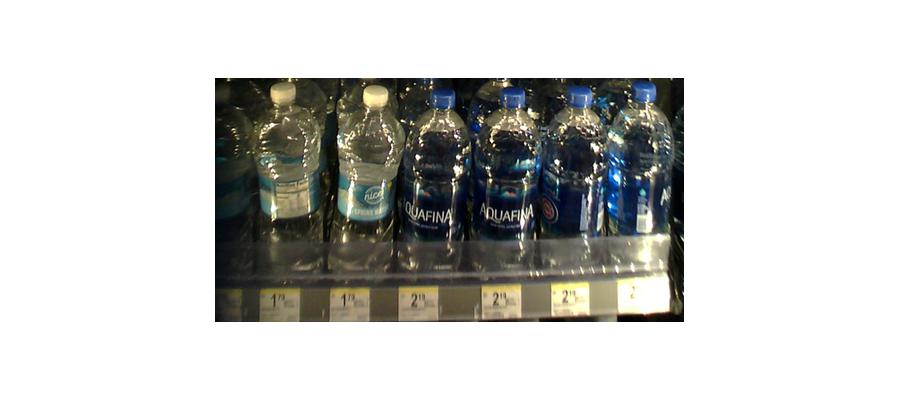bottle: (254, 77, 329, 283), (329, 80, 400, 283), (470, 84, 539, 275), (401, 88, 470, 277), (606, 80, 672, 275), (540, 84, 606, 270), (214, 85, 249, 285)
